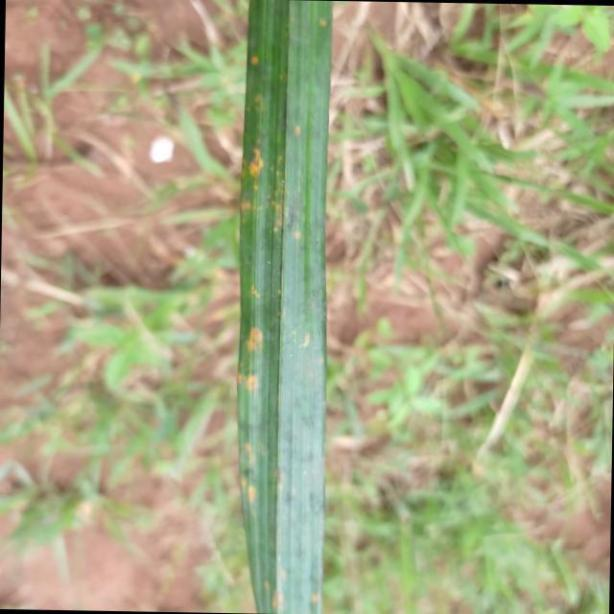Kalium: (233, 0, 336, 614)
